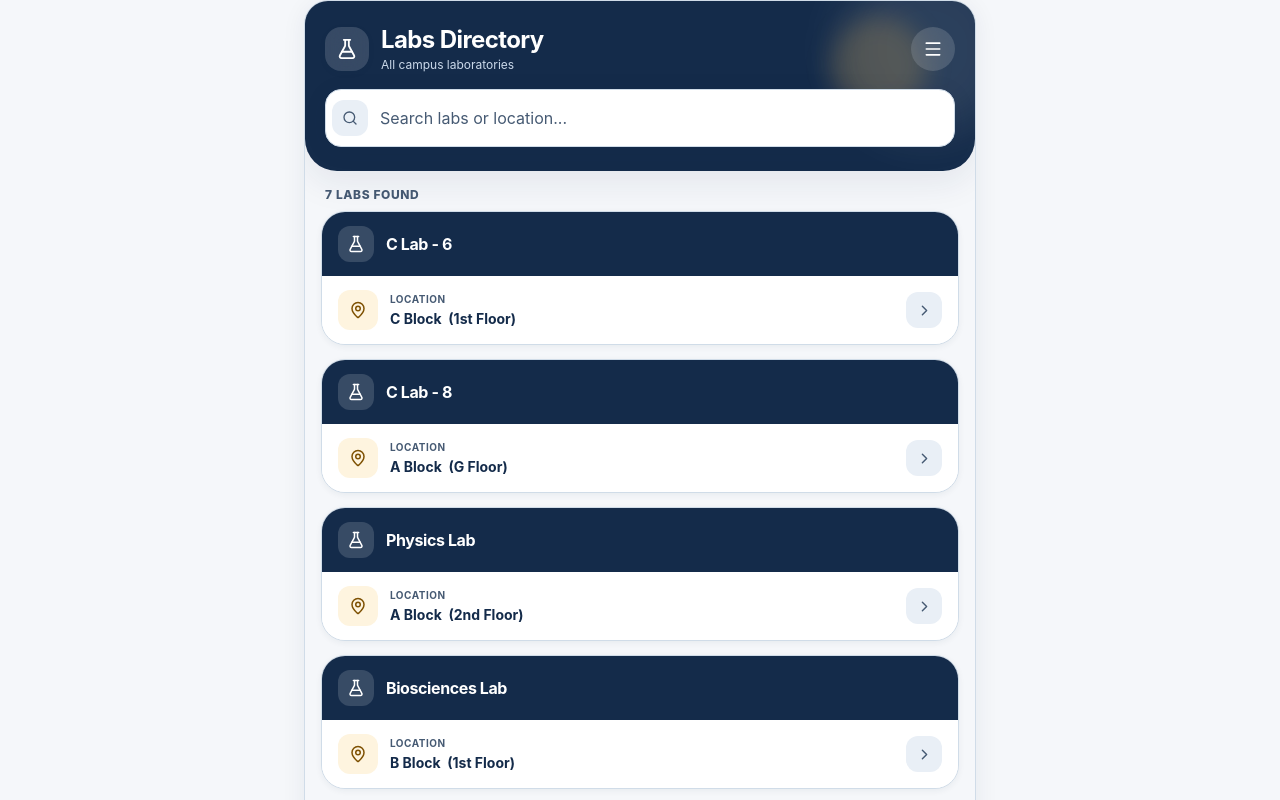
it: LabsDirectoryBrowser › opens clean lab details dialog when clicking a lab card and closes on button click
What coordinates should you click on to do the following:
click the button "C Lab - 6 LOCATION C Block (1st Floor)"
I would click on:
 (640, 278)
Its box is [321, 211, 959, 345].
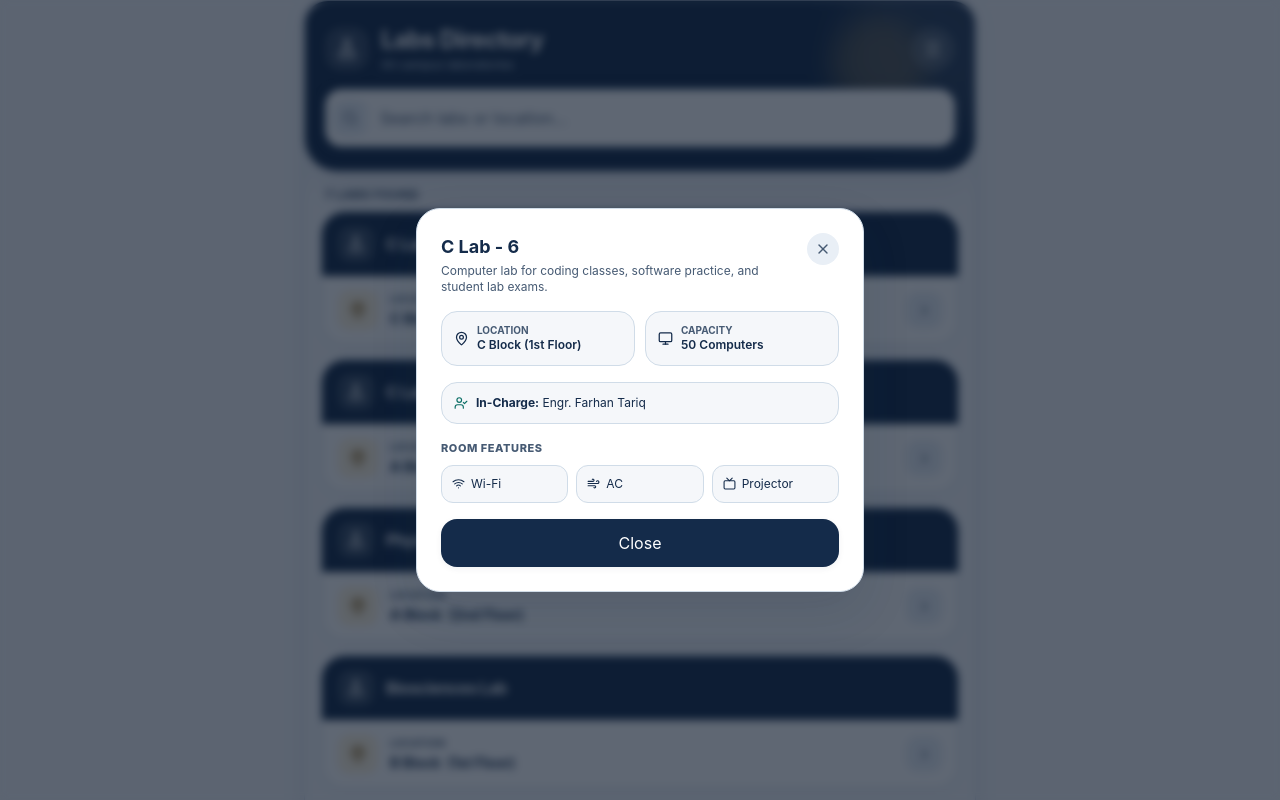
Now the dialog shows "C Block (1st Floor)"
Now the dialog shows "50 Computers", box [681, 337, 764, 352]
What coordinates should you click on to do the following:
click the button "Close"
I would click on:
 (640, 543)
Its box is [441, 519, 839, 567].
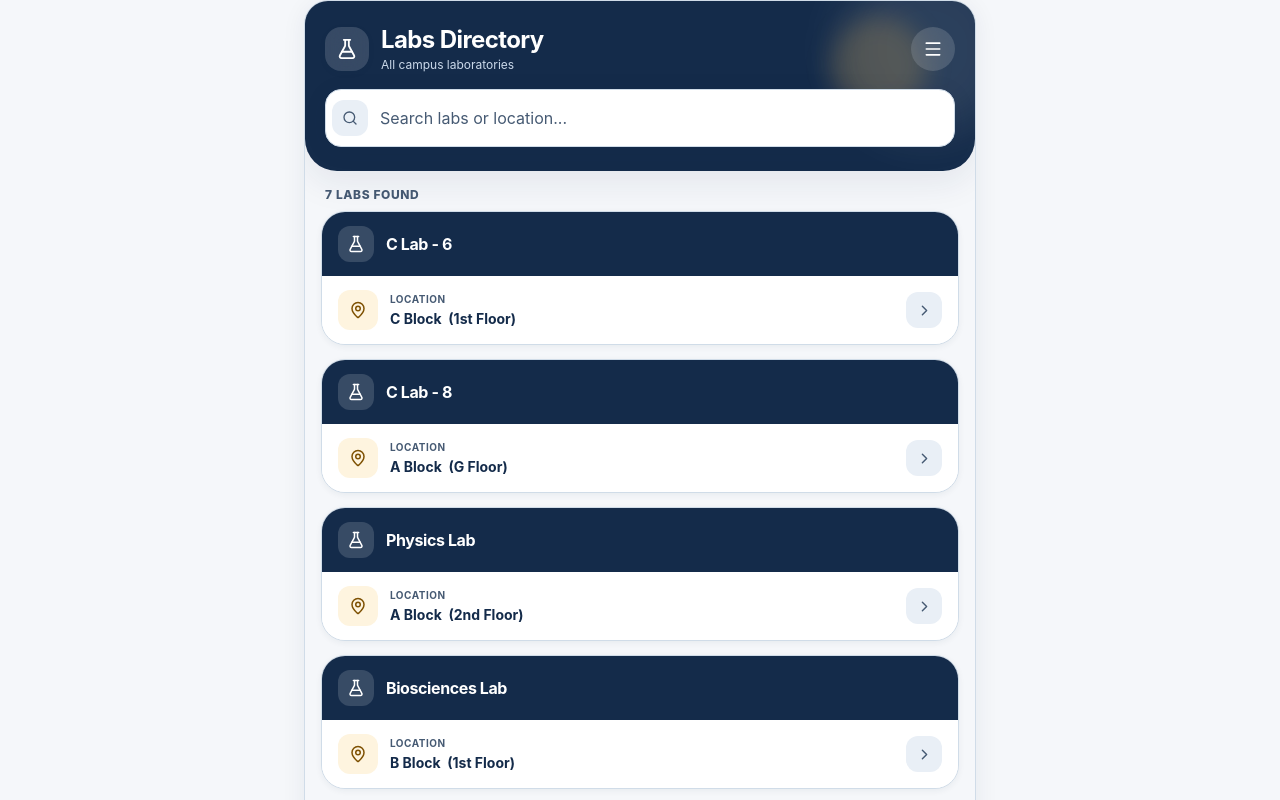
Now the dialog is gone
